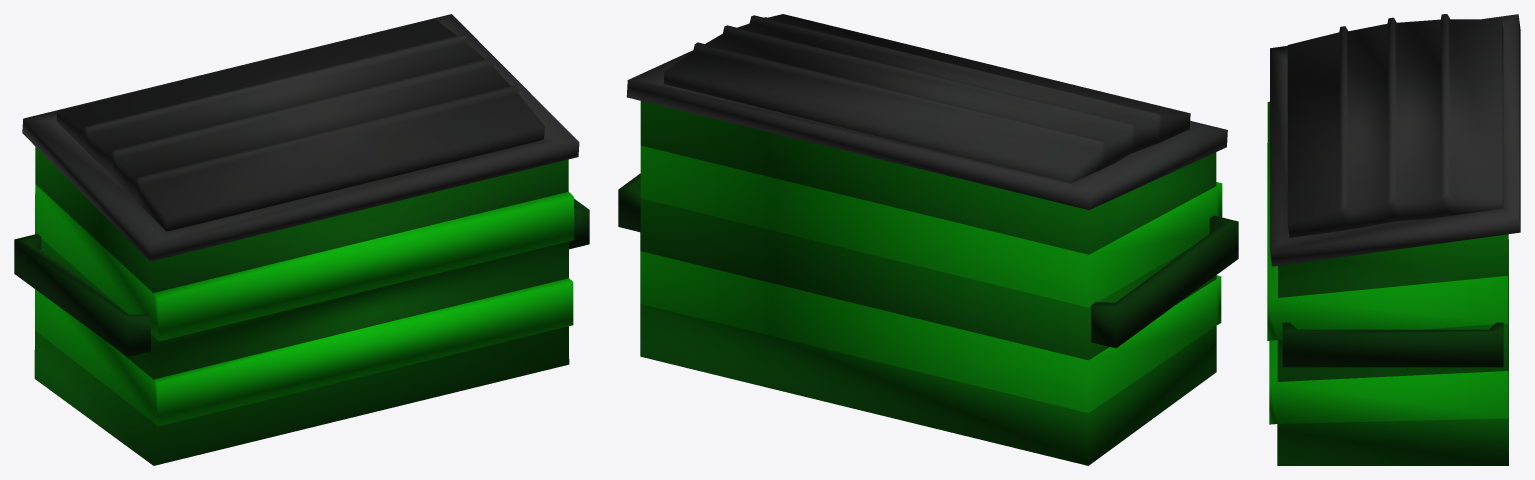
File: BigTrash.fbx
The picture shows the model from 3 angles, left to right: view 1: azimuth 30°, elevation 25°; view 2: azimuth 150°, elevation 25°; view 3: azimuth 270°, elevation 25°; orthographic projection. The views are drawn at different scales.
Parts seen in each view (by area): view 1: BigTrash; view 2: BigTrash; view 3: BigTrash.
Part boxes in pixels (x1,y1,x2,y2): BigTrash: [14, 14, 589, 465]; BigTrash: [618, 14, 1238, 465]; BigTrash: [1267, 14, 1520, 465].
Size of the model in its own units: 126 by 70.63 by 61.43.
1 material, 1 textured.
